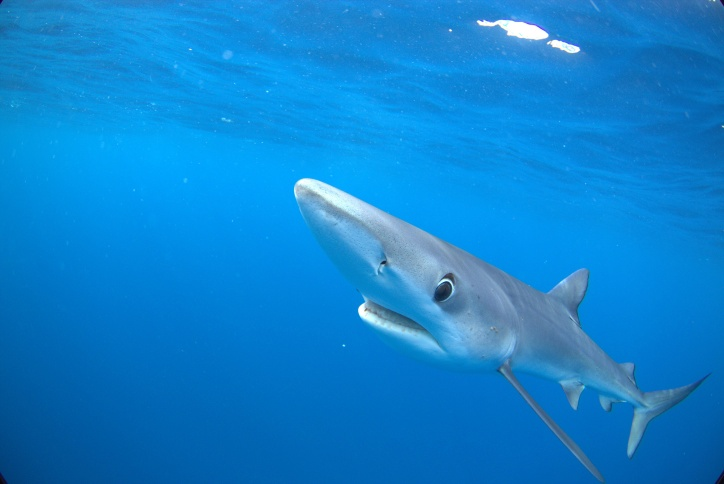Azul: (279, 160, 716, 484)
